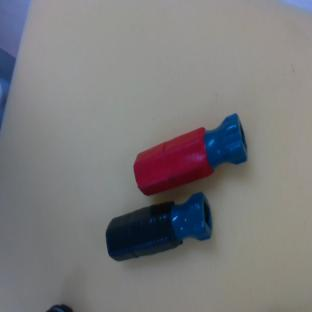part_2_bad: (99, 190, 217, 265)
part_2_good: (126, 113, 254, 201)
